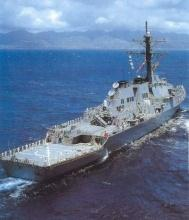warship: (2, 22, 189, 181)
